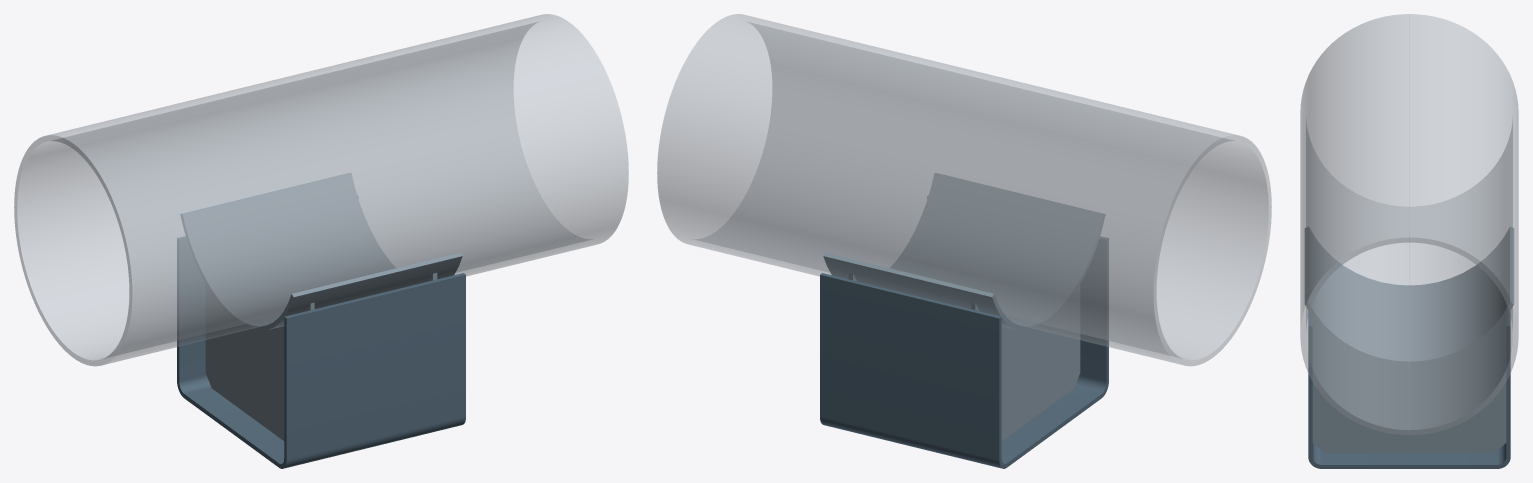
The model's file is TS-624.000-opora-dn194-H100-L170.glb.
3 views of the same model, side by side, from view 1: azimuth 30°, elevation 25°; view 2: azimuth 150°, elevation 25°; view 3: azimuth 270°, elevation 25° (orthographic). The views are drawn at different scales.
Parts seen in each view (by area): view 1: truba, skoba, podushka_0, rebro3_0; view 2: truba, skoba, podushka_0, rebro3_0; view 3: truba, rebro3_1, podushka_0, skoba.
Part boxes in pixels (x1=…): truba: x1=14, y1=14, x2=628, y2=366; skoba: x1=177, y1=196, x2=465, y2=468; podushka_0: x1=180, y1=173, x2=462, y2=331; rebro3_0: x1=205, y1=286, x2=314, y2=440; truba: x1=657, y1=14, x2=1271, y2=366; skoba: x1=820, y1=196, x2=1108, y2=468; podushka_0: x1=823, y1=173, x2=1105, y2=331; rebro3_0: x1=971, y1=286, x2=1080, y2=440; truba: x1=1300, y1=14, x2=1518, y2=435; rebro3_1: x1=1312, y1=318, x2=1506, y2=452; podushka_0: x1=1304, y1=227, x2=1514, y2=365; skoba: x1=1308, y1=312, x2=1510, y2=468.
Size of the model in its own units: 470 by 297 by 194.
